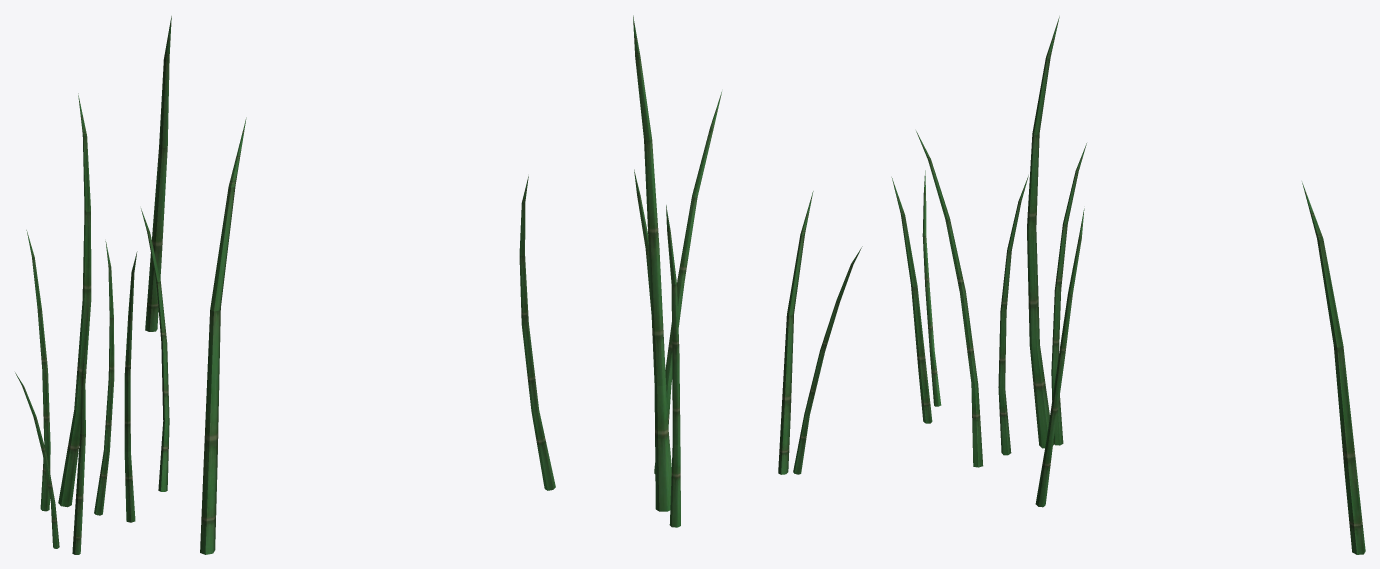
File: Area_13_67.fbx
3 views of the same model, side by side, from view 1: azimuth 30°, elevation 25°; view 2: azimuth 150°, elevation 25°; view 3: azimuth 270°, elevation 25° (orthographic). The views are drawn at different scales.
Visible parts, largest first — view 1: Area_13_67; view 2: Area_13_67; view 3: Area_13_67.
Part boxes in pixels (box(x1,y1,x2,y2)): Area_13_67: box(15, 16, 171, 554); Area_13_67: box(200, 15, 862, 554); Area_13_67: box(891, 16, 1365, 554).
Bounding box in the file's own units: 1540 × 1772 × 1690.
